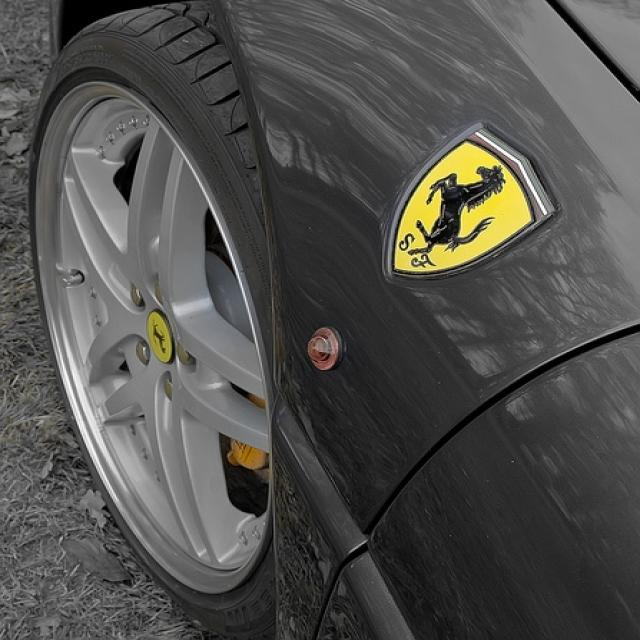ferrari: (391, 129, 560, 277)
